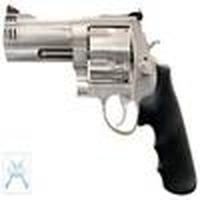gun: (1, 13, 195, 184)
